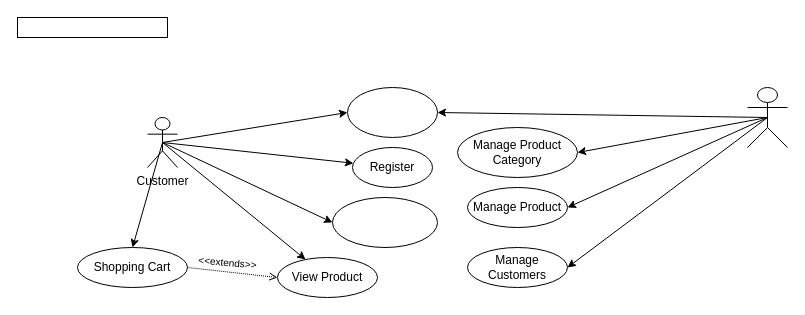
Image size: 805x315. Some labels were removed from this diagram. Here are the shapes that lost their labels. From the top down, the box of each, then its label:
(16, 16, 168, 38): Ecomerce-Web Use Case
(346, 86, 438, 138): Log In/out
(746, 86, 788, 148): Admin
(332, 196, 438, 248): Product Rating
